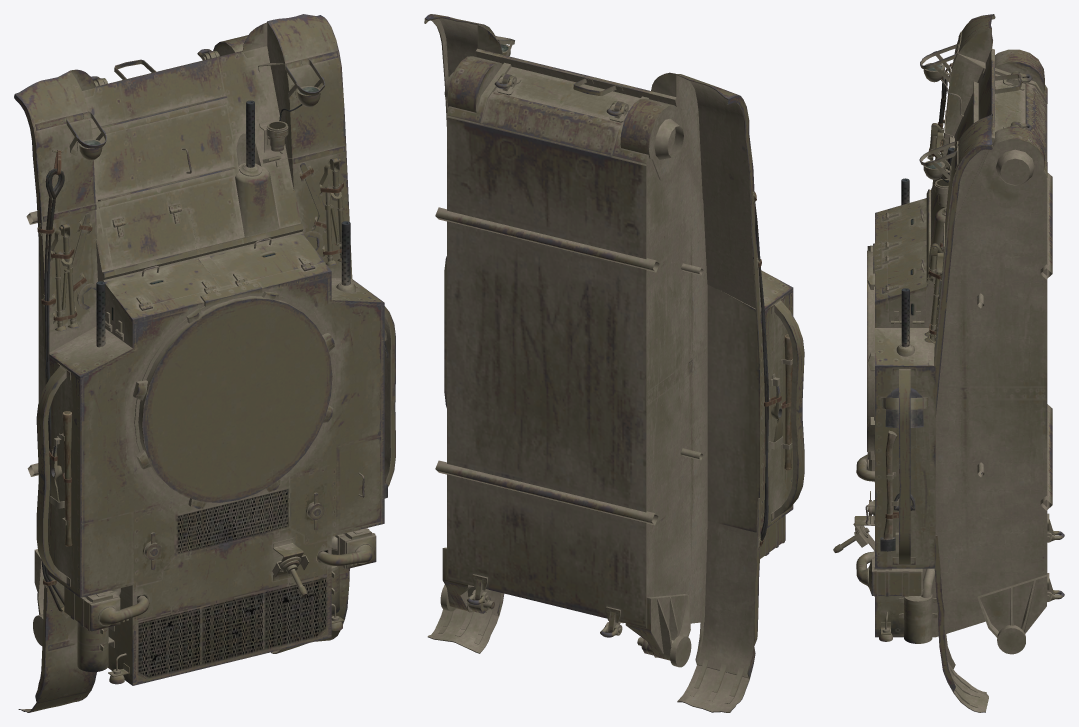
The model's file is Hull.glb.
3 renders of one model, left to right at view 1: azimuth 30°, elevation 25°; view 2: azimuth 150°, elevation 25°; view 3: azimuth 270°, elevation 25°, orthographic. The views are drawn at different scales.
Visible parts, largest first — view 1: set_0_group_0; view 2: set_0_group_0; view 3: set_0_group_0.
Boxes of the visible parts, <box> form: set_0_group_0: <box>14,14,395,712</box>; set_0_group_0: <box>424,14,804,712</box>; set_0_group_0: <box>833,14,1064,712</box>.
Bounding box in the file's own units: 2.6 × 4.44 × 1.61.
1 material, 1 textured.
